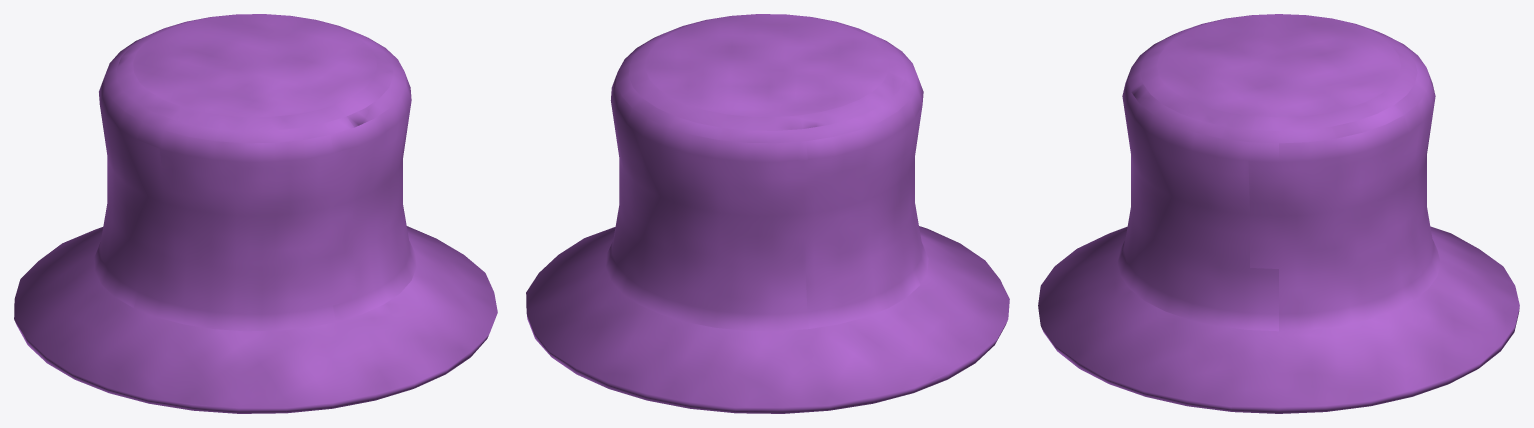
Rendered from goudabuda.fbx.
3 views of the same model, side by side, from view 1: azimuth 30°, elevation 25°; view 2: azimuth 150°, elevation 25°; view 3: azimuth 270°, elevation 25° (orthographic).
Visible parts, largest first — view 1: goudabuda; view 2: goudabuda; view 3: goudabuda.
Part boxes in pixels (x1,y1,x2,y2): goudabuda: (14, 14, 497, 413); goudabuda: (526, 14, 1009, 413); goudabuda: (1038, 14, 1519, 413).
Bounding box in the file's own units: 304 × 173 × 304.
